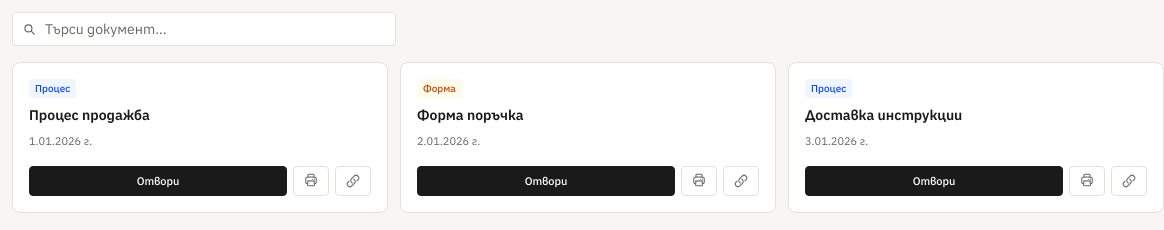
Test: DocumentLibrary › shows "Няма намерени документи" when no results
The width and height of the screenshot is (1164, 230).
Type "нещо несъществуващо xyz" into the search field at (204, 29), box top-left (12, 12), bottom-right (396, 46)
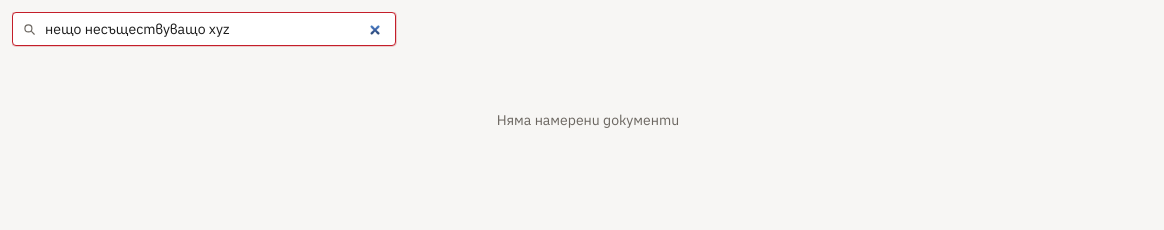
Now the text "Няма намерени документи" is shown, box top-left (497, 111), bottom-right (679, 129)
